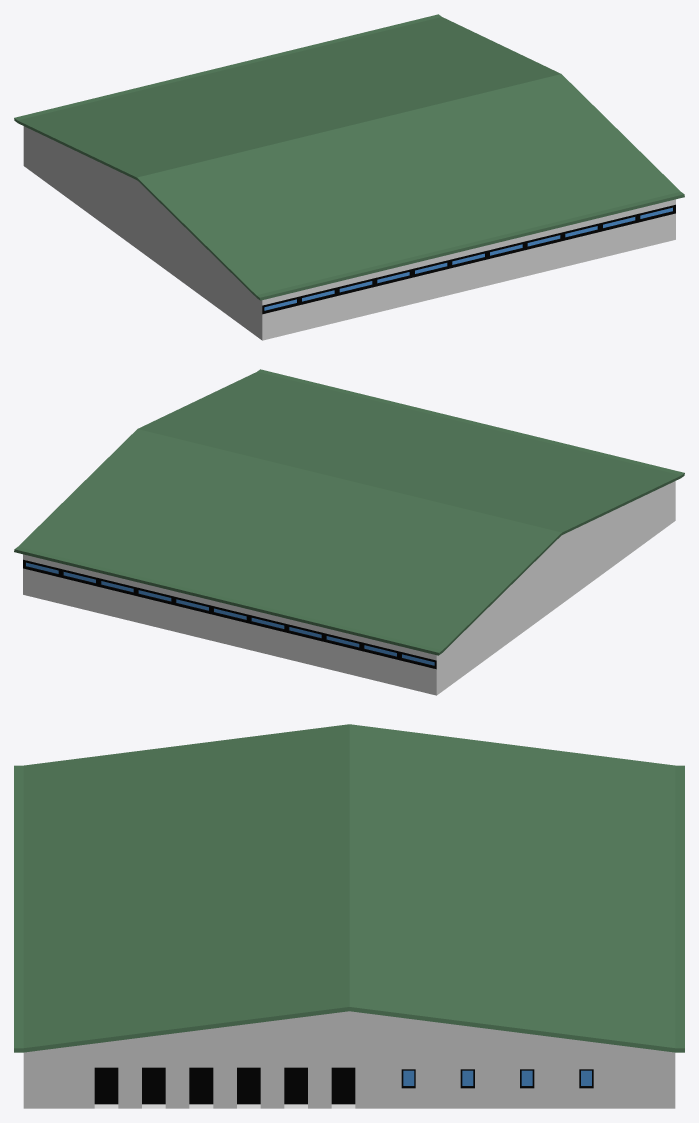
File: warehouse.fbx
3 views of the same model, one above another, from view 1: azimuth 30°, elevation 25°; view 2: azimuth 150°, elevation 25°; view 3: azimuth 270°, elevation 25° (orthographic). The views are drawn at different scales.
Visible parts, largest first — view 1: Cube; view 2: Cube; view 3: Cube.
Boxes of the visible parts, x1,y1,x2,y2 form: Cube: (14, 14, 684, 340); Cube: (14, 369, 684, 695); Cube: (14, 724, 684, 1108).
Bounding box in the file's own units: 2028 × 352 × 2032.
